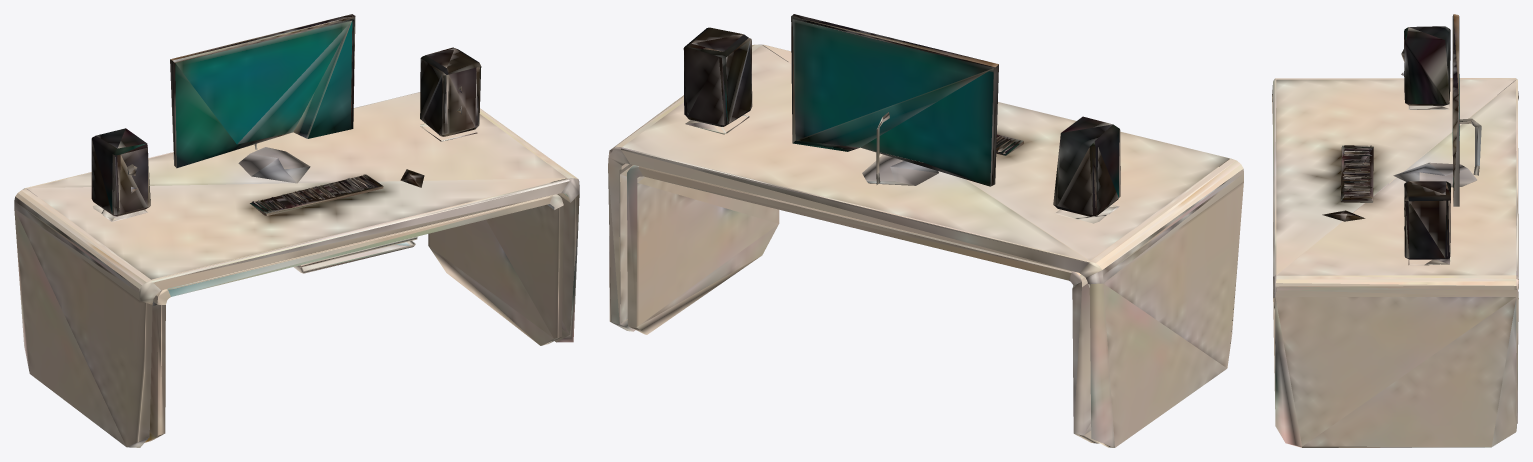
File: desk.lod2.glb
3 renders of one model, left to right at view 1: azimuth 30°, elevation 25°; view 2: azimuth 150°, elevation 25°; view 3: azimuth 270°, elevation 25°, orthographic. The views are drawn at different scales.
Bounding box in the file's own units: 2 × 1.3 × 1.01.
1 material, 1 textured.
